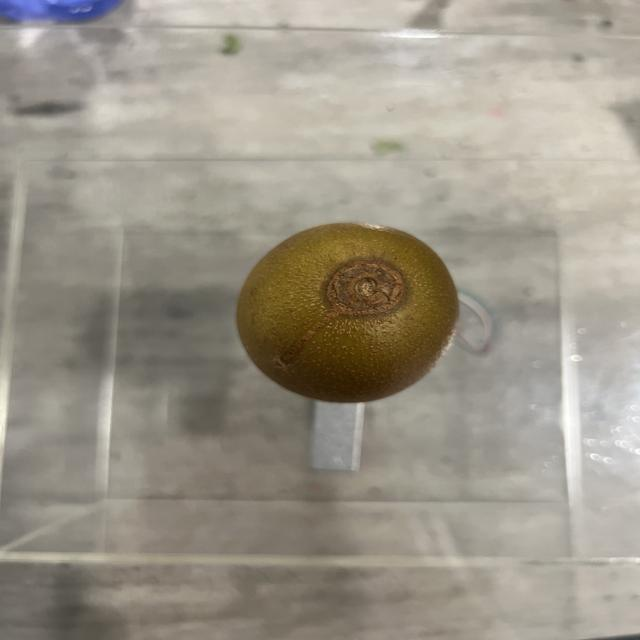kiwi: (233, 220, 458, 403)
